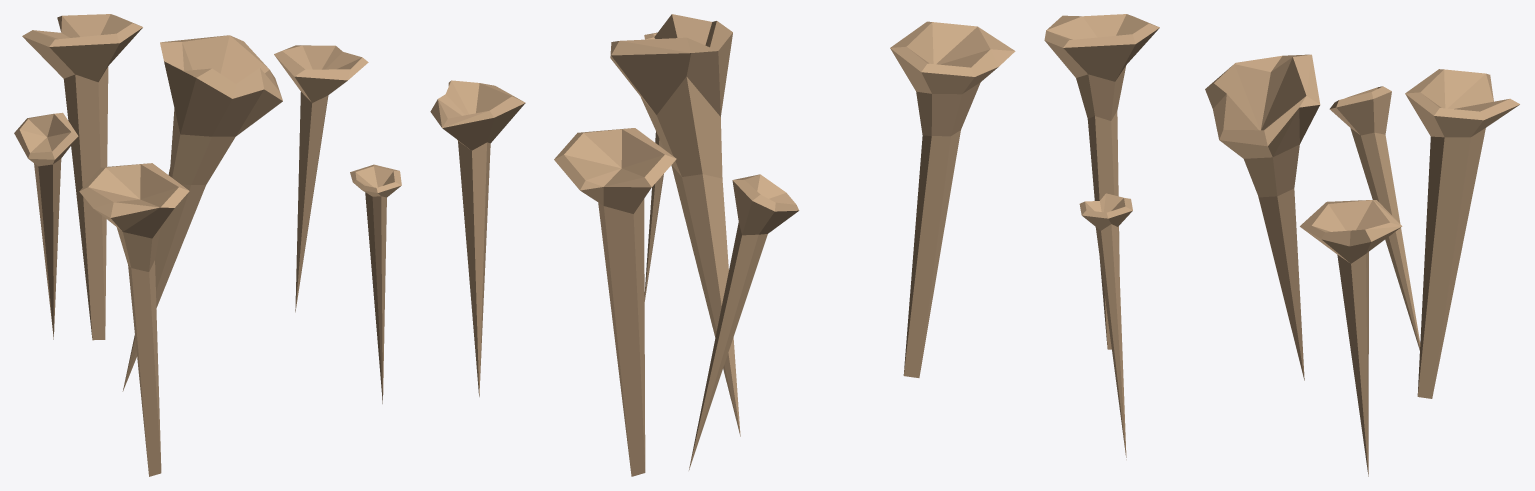
Rendered from zone2-c4.glb.
3 renders of one model, left to right at view 1: azimuth 30°, elevation 25°; view 2: azimuth 150°, elevation 25°; view 3: azimuth 270°, elevation 25°, orthographic. The views are drawn at different scales.
Visible parts, largest first — view 1: mushroom-chanterelle-mature-b.001; view 2: mushroom-chanterelle-mature-b.001; view 3: mushroom-chanterelle-mature-b.001.
Part boxes in pixels (x1,y1,x2,y2): mushroom-chanterelle-mature-b.001: (14,14,401,476); mushroom-chanterelle-mature-b.001: (430,14,1015,476); mushroom-chanterelle-mature-b.001: (1044,14,1519,476).
Size of the model in its own units: 47.65 by 40.44 by 49.58.
